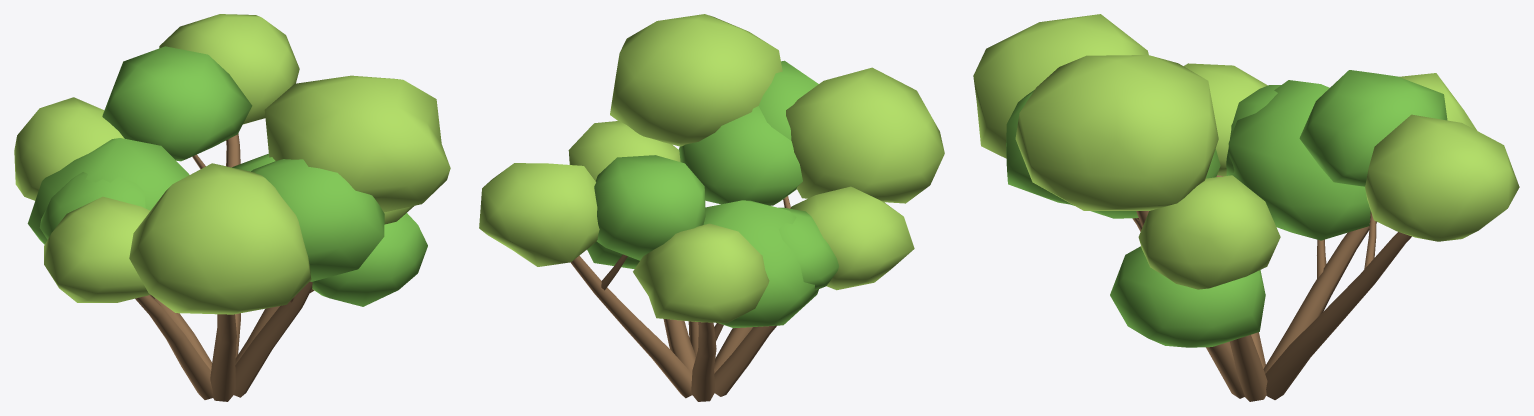
The model's file is Bush_A.fbx.
3 views of the same model, side by side, from view 1: azimuth 30°, elevation 25°; view 2: azimuth 150°, elevation 25°; view 3: azimuth 270°, elevation 25° (orthographic). The views are drawn at different scales.
Visible parts, largest first — view 1: Bush_A; view 2: Bush_A; view 3: Bush_A.
Boxes of the visible parts, bbox=[...] form: Bush_A: bbox=[14, 14, 450, 401]; Bush_A: bbox=[479, 14, 944, 401]; Bush_A: bbox=[973, 14, 1519, 401].
Bounding box in the file's own units: 1.41 × 1.28 × 1.71.
